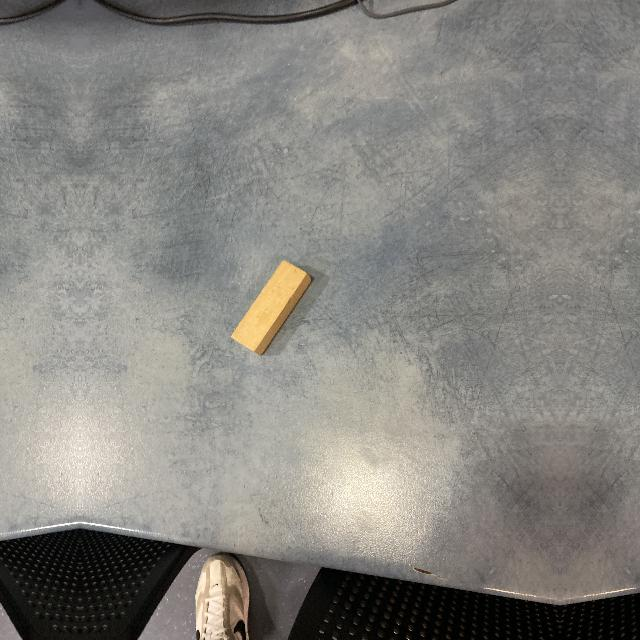jenga: (228, 260, 312, 356)
